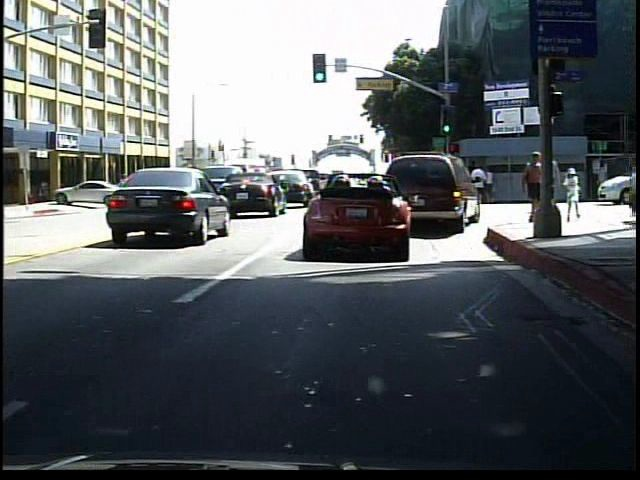person: (516, 149, 546, 222), (558, 170, 584, 223), (124, 172, 143, 205)
